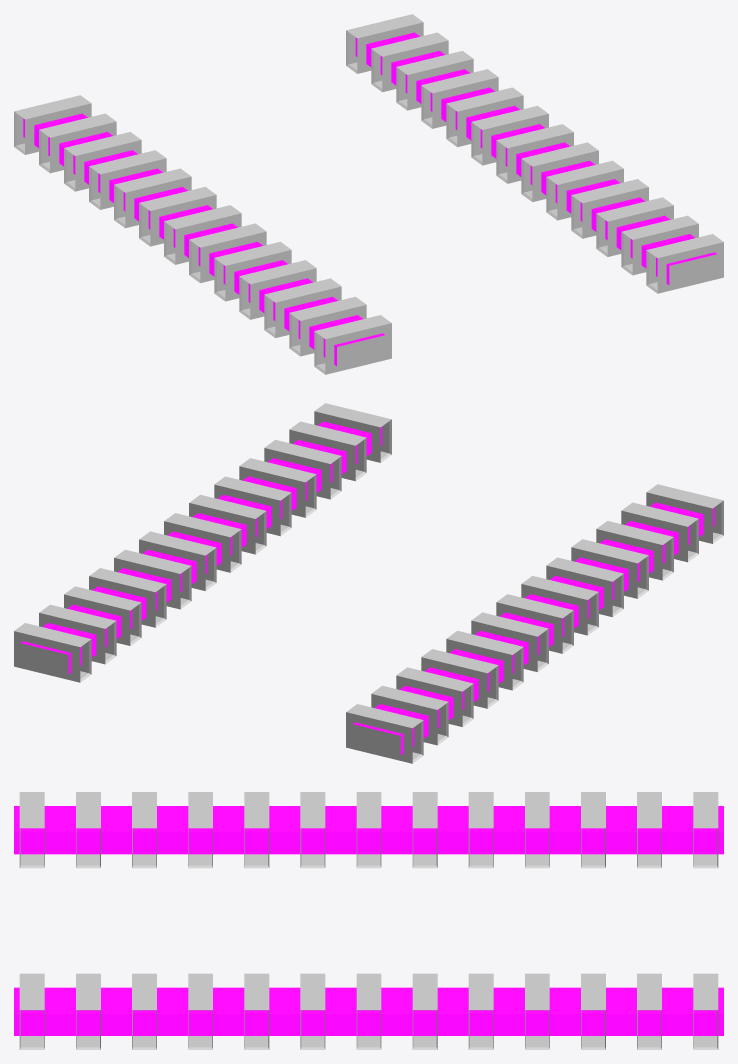
The model's file is lights.fbx.
3 views of the same model, one above another, from view 1: azimuth 30°, elevation 25°; view 2: azimuth 150°, elevation 25°; view 3: azimuth 270°, elevation 25° (orthographic). The views are drawn at different scales.
Visible parts, largest first — view 1: lights.001; view 2: lights.001; view 3: lights.001.
Boxes of the visible parts, bbox=[...] form: lights.001: bbox=[14, 14, 723, 374]; lights.001: bbox=[14, 403, 723, 763]; lights.001: bbox=[14, 792, 723, 1049].
Size of the model in its own units: 276 by 23.5 by 380.
